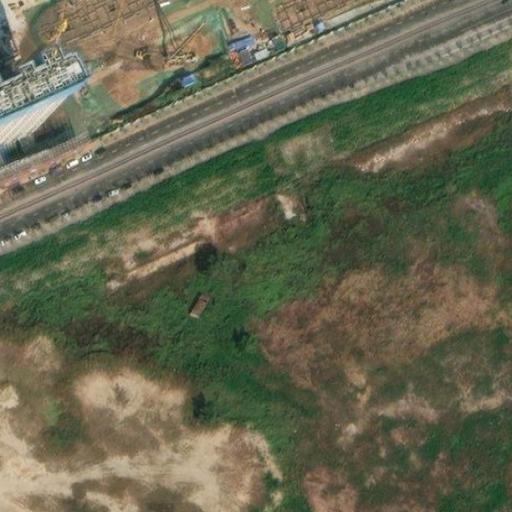building: (182, 287, 212, 319), (177, 69, 199, 89)
